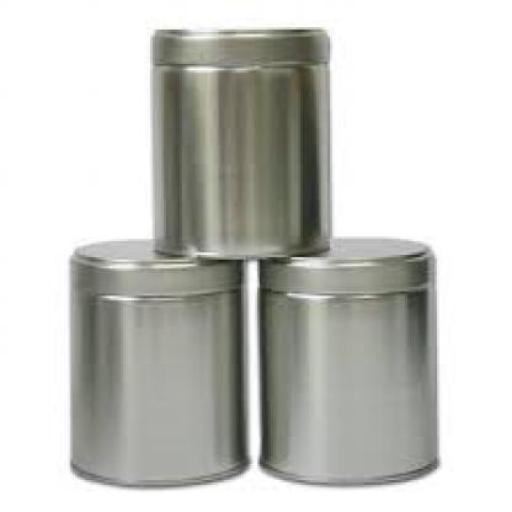metal: (257, 234, 437, 482), (66, 241, 248, 485), (145, 24, 330, 254)
